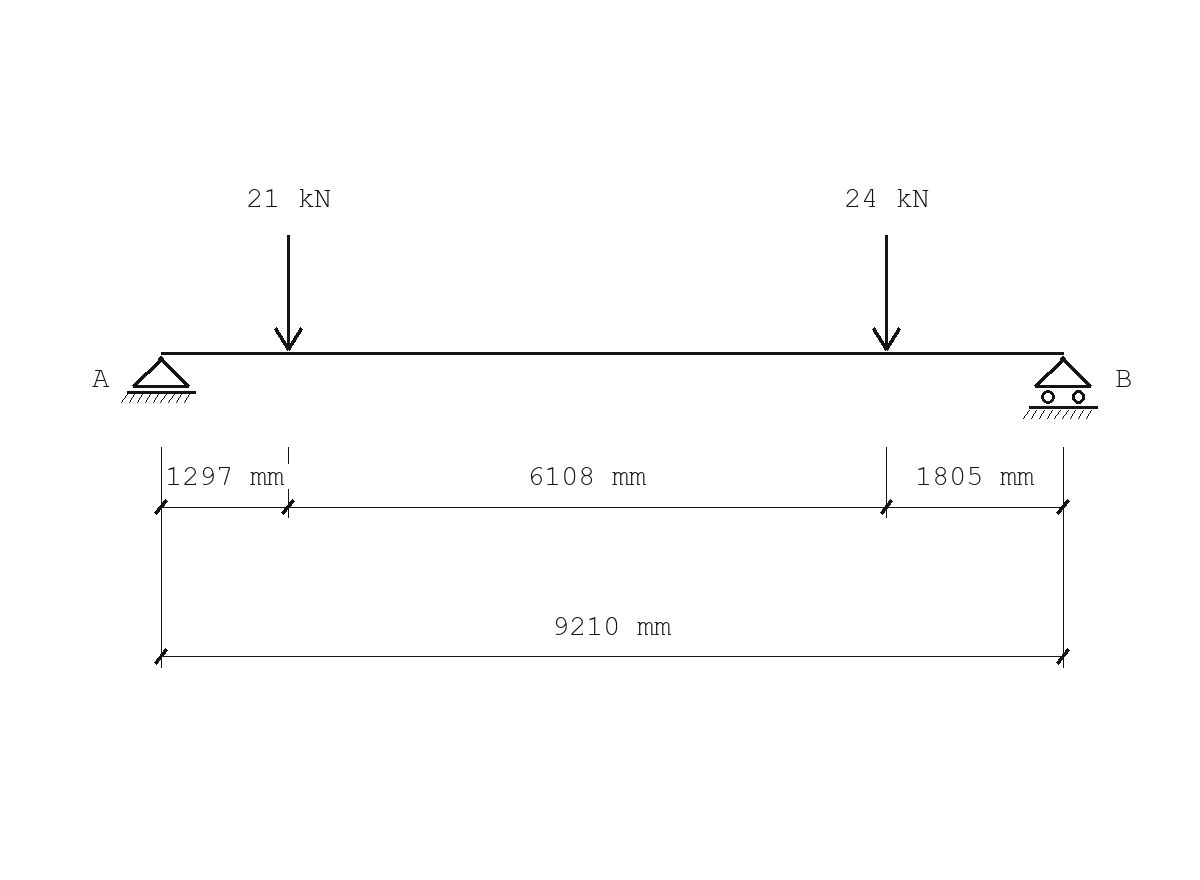pin_support: (121, 356, 196, 403)
point_load: (274, 235, 303, 351), (872, 235, 901, 351)
roller_support: (1023, 356, 1098, 419)
